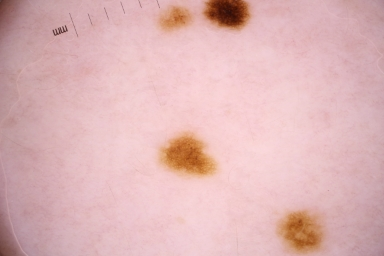nevus: (159, 135, 216, 176), (276, 214, 324, 249), (203, 1, 250, 31), (159, 10, 193, 33)
